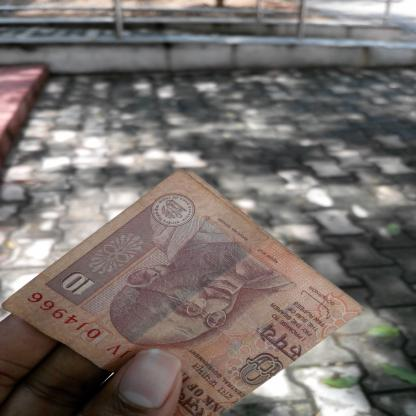Old10Front: (1, 169, 364, 416)
